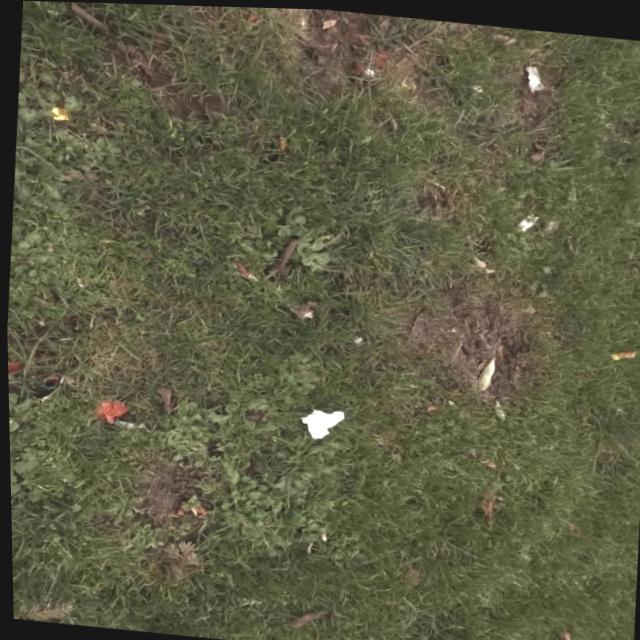Paper: (294, 402, 343, 439), (521, 62, 545, 90)
